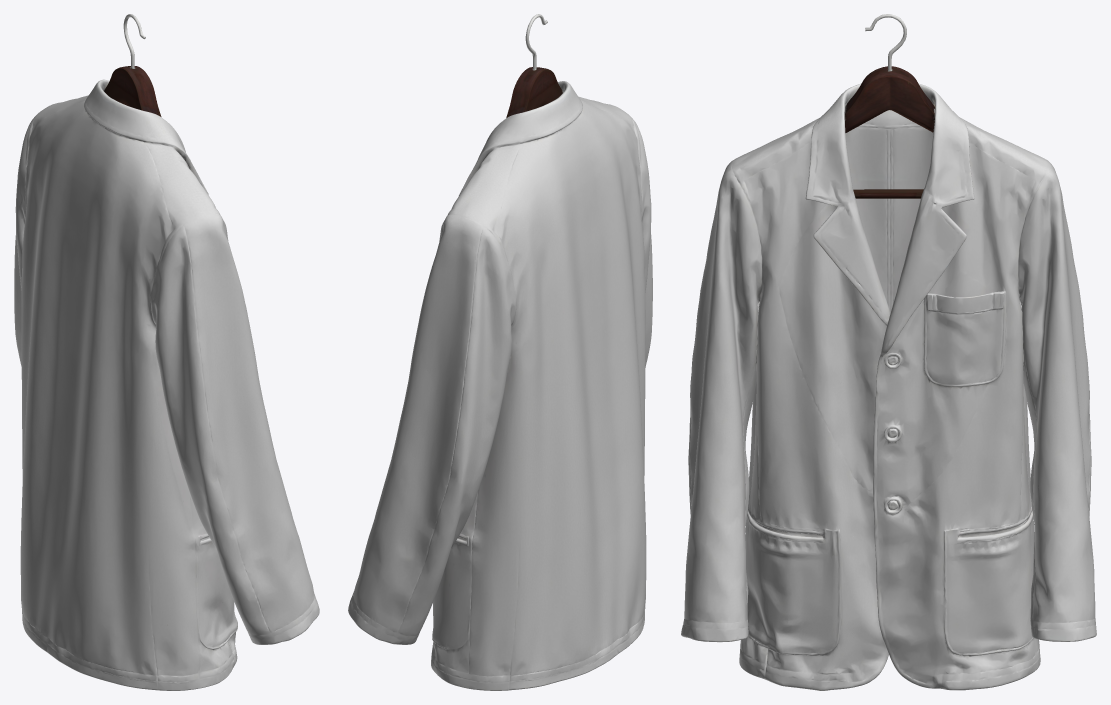
The model's file is physician-coat-2k.glb.
3 renders of one model, left to right at view 1: azimuth 30°, elevation 25°; view 2: azimuth 150°, elevation 25°; view 3: azimuth 270°, elevation 25°, orthographic. The views are drawn at different scales.
Parts seen in each view (by area): view 1: tripo_node_46f86cf6-57a0-48bf-8879-a32d0e397305; view 2: tripo_node_46f86cf6-57a0-48bf-8879-a32d0e397305; view 3: tripo_node_46f86cf6-57a0-48bf-8879-a32d0e397305.
Boxes of the visible parts, x1,y1,x2,y2 form: tripo_node_46f86cf6-57a0-48bf-8879-a32d0e397305: [14, 14, 319, 690]; tripo_node_46f86cf6-57a0-48bf-8879-a32d0e397305: [348, 14, 652, 690]; tripo_node_46f86cf6-57a0-48bf-8879-a32d0e397305: [681, 14, 1096, 690].
Size of the model in its own units: 0.3069 by 0.9794 by 0.5702.
1 material, 1 textured.
